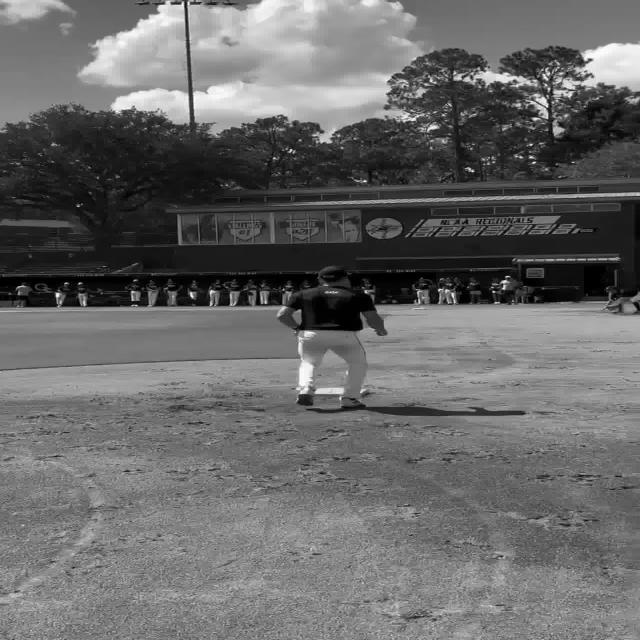base: (313, 388, 345, 396), (360, 389, 369, 396)
shoe: (340, 398, 367, 410), (296, 391, 313, 406)
